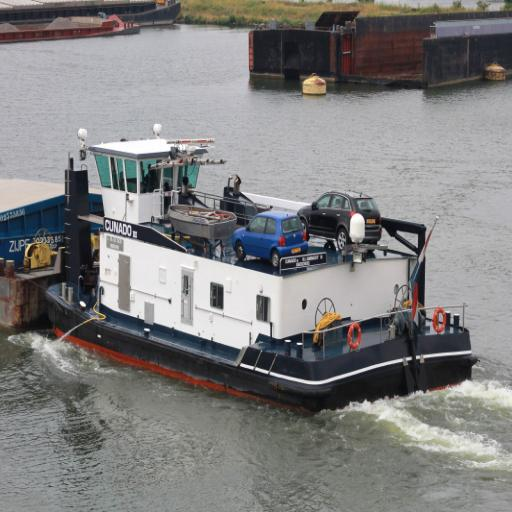tugboat: (41, 119, 482, 428)
